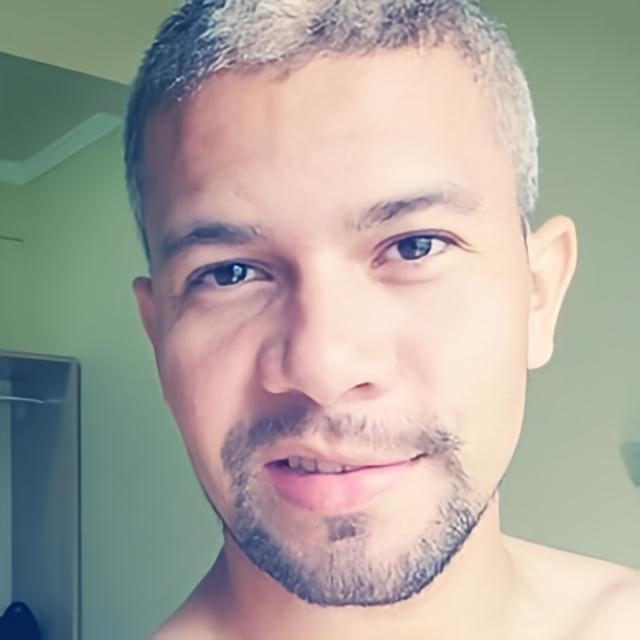content: (138, 43, 524, 606)
